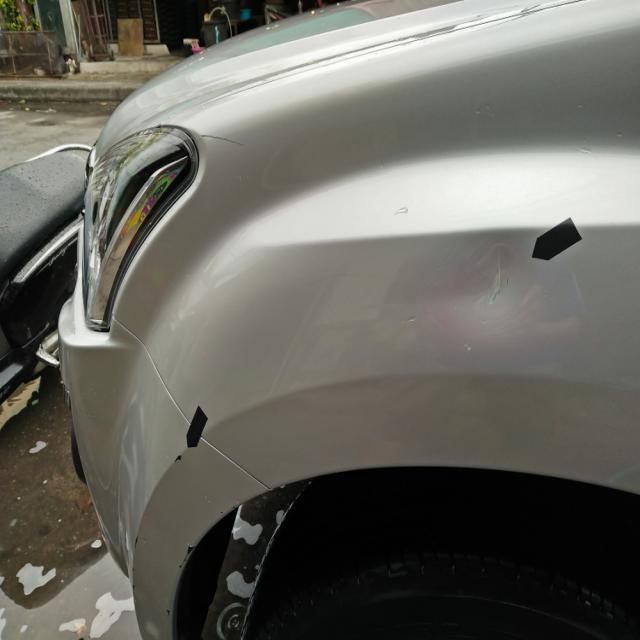dent: (438, 236, 556, 326)
scratch: (203, 134, 248, 148), (178, 540, 197, 569), (131, 534, 139, 601)
